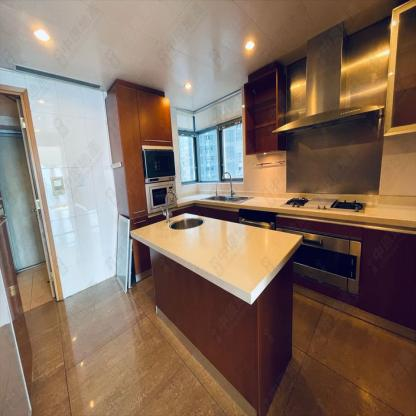Cupboard: (116, 83, 172, 219), (243, 69, 277, 155)
Exhaust Hood: (270, 22, 384, 136)
Faucet: (163, 190, 177, 223), (221, 170, 235, 196)
Oven: (276, 227, 361, 294), (141, 145, 178, 214)
Sink: (201, 194, 254, 203), (168, 217, 205, 228)
Stove: (280, 196, 365, 212)
